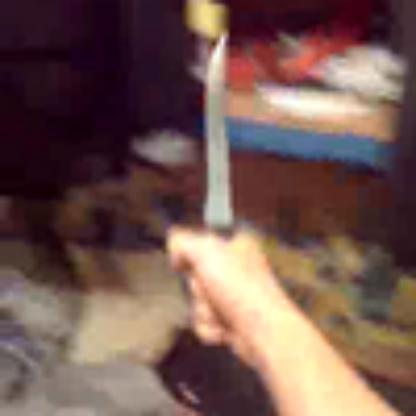knives: (158, 7, 290, 348)
